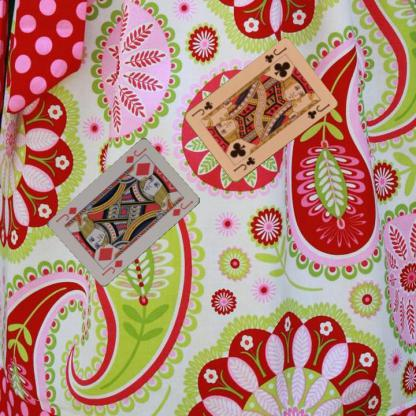Jc: (262, 44, 288, 64), (230, 154, 256, 173)
Jd: (99, 257, 124, 277), (123, 145, 149, 164)
